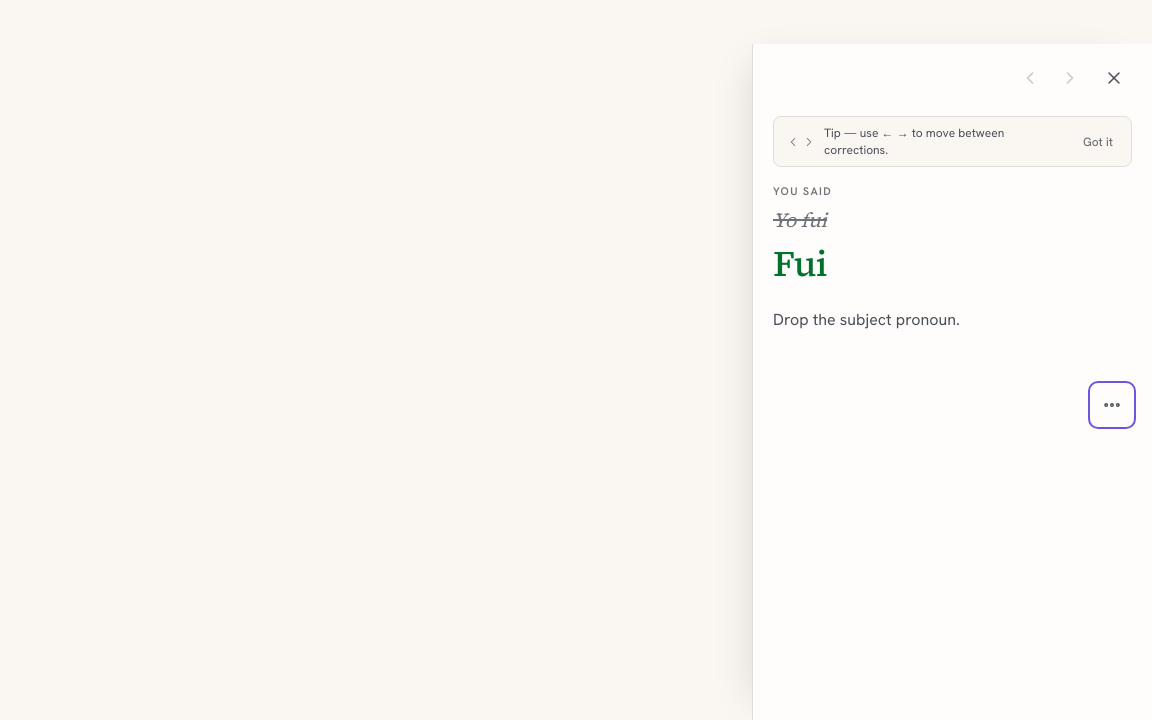
Test case: WriteSheet — error recovery › shows an error message when delete fails
Click the button with test id "sheet-overflow": (1112, 405) [1092, 385, 1132, 425]
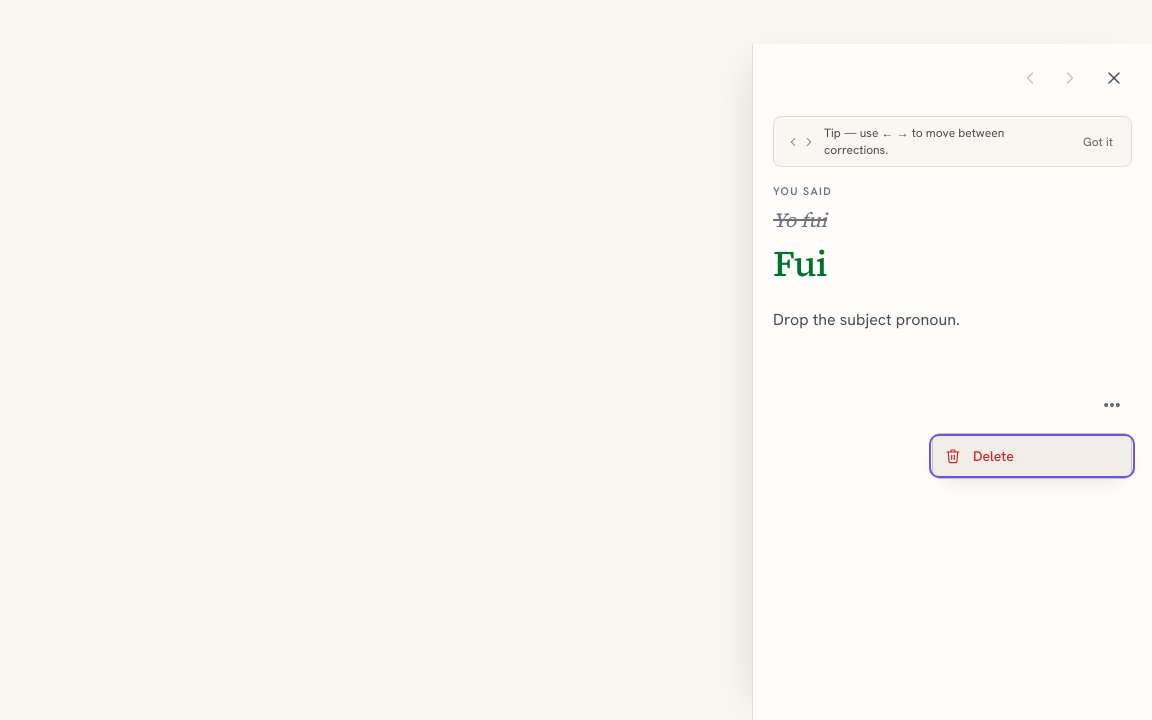
Click the menu item with test id "sheet-delete": (1032, 456) [933, 438, 1131, 474]
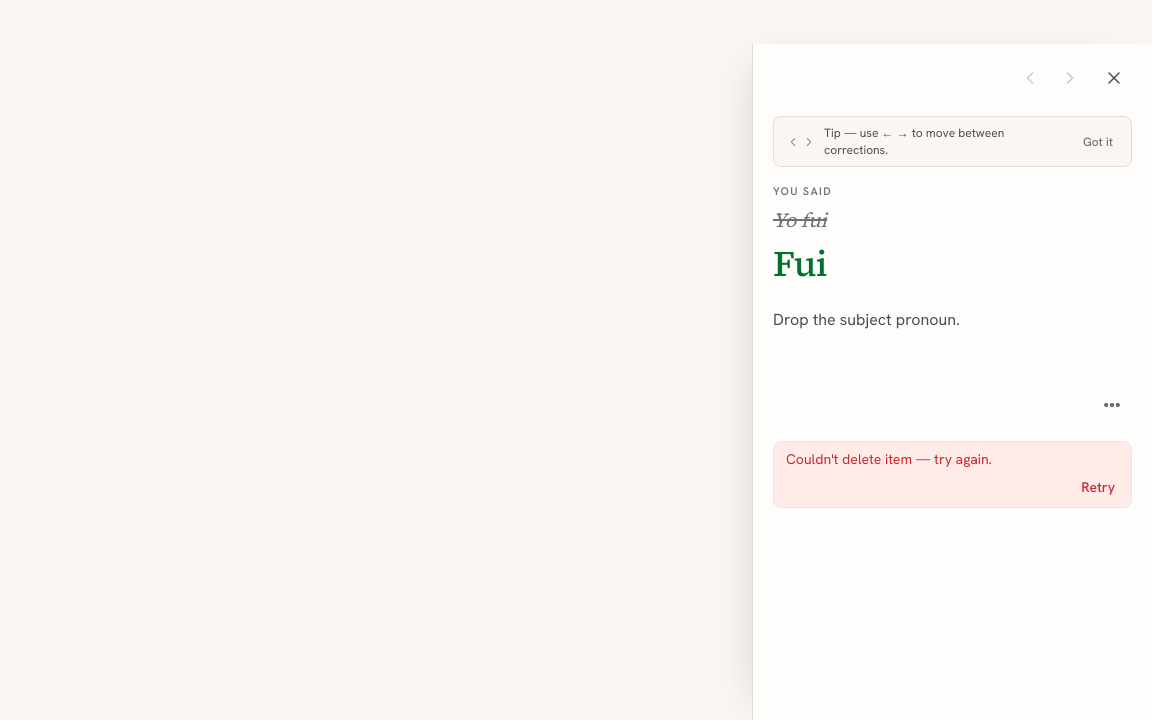
Expected: the message "Couldn't delete item — try again. Retry" is shown, [773, 441, 1132, 508]
Expected: the text "Couldn't delete item — try again." is shown, [786, 450, 992, 468]
